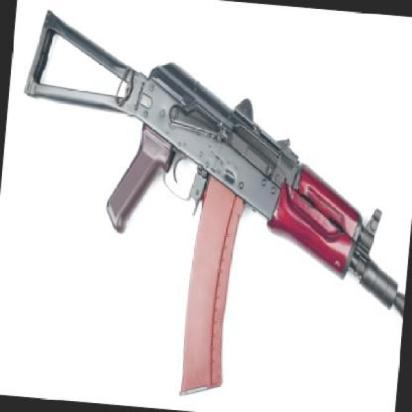Gun: (22, 12, 405, 397)
